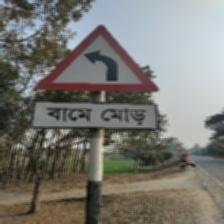Left-Turn: (31, 24, 162, 134)
